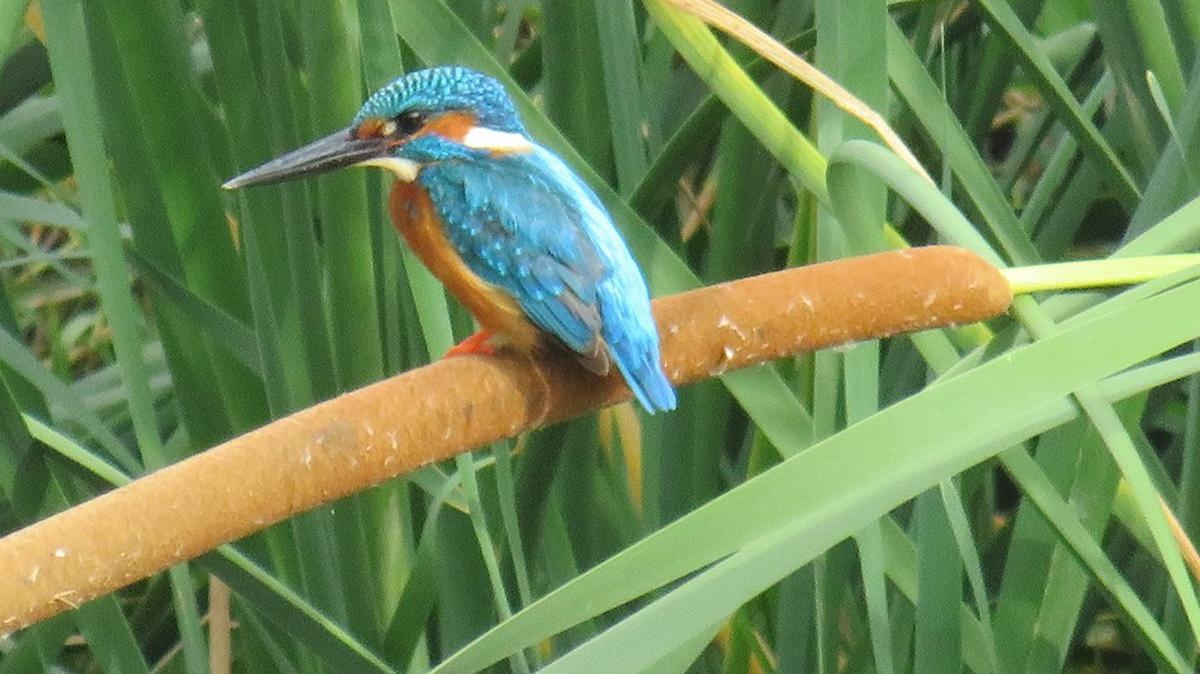kingfisher: (209, 58, 687, 418)
